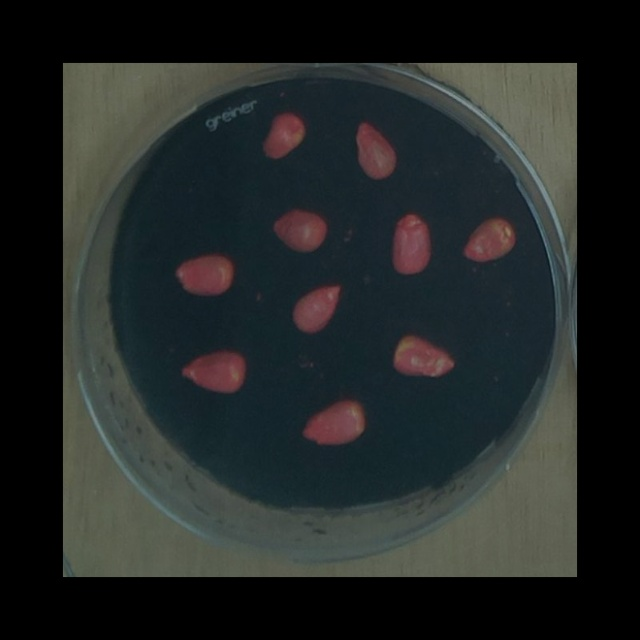Zea mays: (295, 393, 372, 452), (174, 344, 252, 399), (386, 329, 459, 384), (285, 275, 348, 338), (386, 206, 438, 280), (168, 250, 238, 303), (456, 209, 520, 266), (349, 116, 401, 184), (267, 205, 333, 258), (256, 106, 311, 167)
